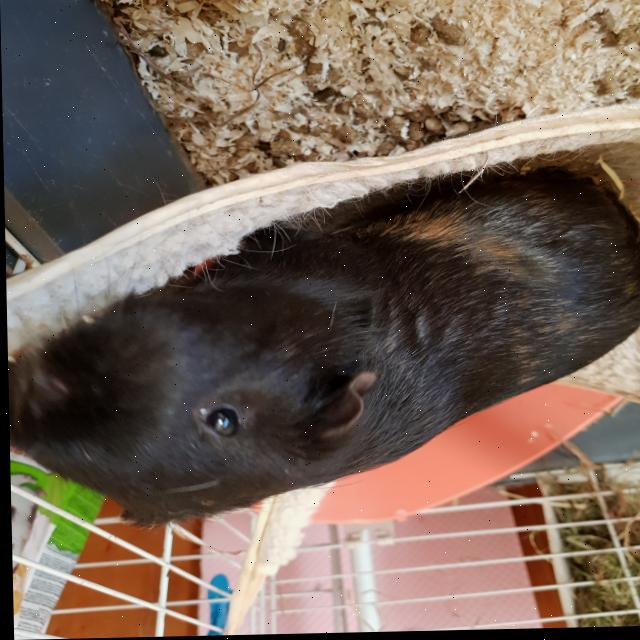guinea pig: (3, 166, 640, 530)
